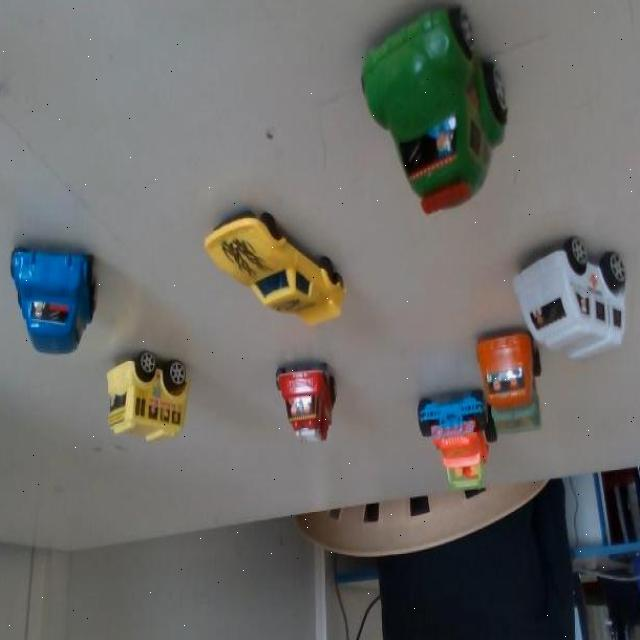car: (356, 12, 522, 211), (511, 224, 634, 375), (207, 206, 349, 336), (2, 234, 98, 358), (109, 341, 198, 444), (408, 393, 490, 497), (478, 326, 544, 443), (275, 349, 347, 454)
